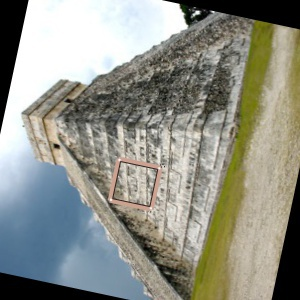square: (106, 155, 164, 212)
